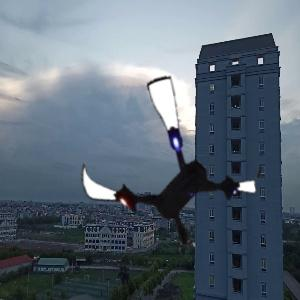drone: (77, 73, 264, 260)
